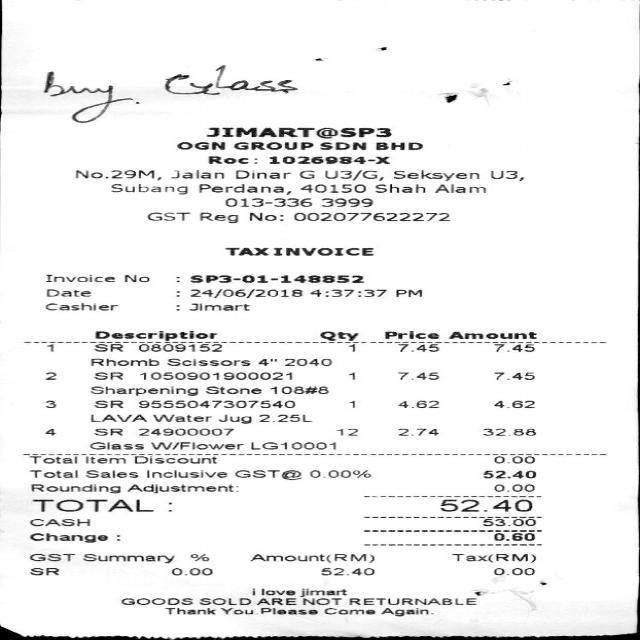text: (206, 126, 391, 138), (31, 499, 152, 511), (293, 212, 449, 220), (138, 371, 292, 379), (250, 553, 373, 563), (190, 275, 363, 282), (95, 330, 216, 340), (438, 499, 530, 511), (137, 399, 293, 406), (88, 386, 195, 396), (188, 288, 300, 297), (126, 483, 238, 492), (199, 183, 290, 194), (74, 169, 160, 180), (81, 553, 173, 563), (28, 532, 118, 542), (348, 597, 475, 604), (392, 170, 477, 180), (267, 156, 388, 163), (452, 552, 534, 562), (30, 483, 119, 492), (108, 183, 185, 193), (150, 441, 243, 449), (138, 427, 230, 435), (272, 247, 372, 254), (223, 198, 310, 206), (248, 441, 333, 449), (132, 455, 217, 463), (233, 469, 300, 479), (167, 358, 249, 366), (45, 302, 116, 311), (234, 141, 312, 149), (447, 331, 535, 338), (323, 170, 383, 180), (137, 344, 220, 351), (146, 470, 226, 477), (90, 358, 158, 366), (309, 289, 385, 296), (298, 184, 364, 192), (43, 274, 112, 281), (379, 607, 432, 616), (235, 170, 290, 178), (308, 470, 369, 477), (482, 427, 535, 435), (90, 441, 143, 449), (83, 469, 136, 477), (188, 303, 248, 310), (120, 598, 190, 604), (171, 170, 223, 178), (29, 518, 88, 525), (433, 184, 484, 192), (152, 414, 210, 421), (373, 184, 423, 192), (321, 198, 371, 206), (26, 455, 76, 463), (207, 155, 256, 163), (89, 414, 145, 421), (480, 518, 536, 525), (319, 330, 358, 340), (205, 386, 260, 393), (176, 141, 224, 149), (384, 331, 438, 338), (257, 414, 310, 421), (482, 470, 535, 477), (319, 567, 372, 574), (200, 212, 237, 222), (319, 141, 365, 149), (375, 142, 421, 150), (283, 358, 329, 366), (299, 588, 345, 596), (489, 170, 522, 181), (258, 608, 316, 614), (492, 532, 535, 540), (270, 386, 327, 392), (216, 414, 250, 424), (146, 212, 188, 220), (492, 371, 534, 379), (44, 289, 91, 296), (28, 470, 75, 477), (397, 343, 438, 351), (397, 371, 438, 379), (397, 400, 438, 408), (397, 427, 438, 435), (493, 455, 534, 463), (493, 343, 533, 351), (493, 400, 533, 408), (84, 456, 124, 464), (324, 608, 375, 614), (198, 598, 248, 604), (165, 607, 215, 613), (224, 247, 266, 254), (492, 567, 534, 574), (170, 567, 212, 574), (493, 484, 533, 491), (29, 554, 74, 560), (249, 212, 282, 220), (256, 598, 294, 604), (302, 598, 339, 604), (28, 567, 58, 574), (122, 274, 148, 282), (94, 371, 120, 379), (94, 427, 120, 435), (260, 588, 294, 594), (220, 608, 252, 614), (395, 289, 421, 296), (94, 344, 120, 351), (94, 399, 120, 406), (335, 427, 356, 435), (256, 358, 276, 366), (299, 170, 313, 178), (190, 554, 206, 560), (45, 371, 56, 379), (43, 427, 54, 435), (347, 343, 356, 351), (347, 400, 356, 408), (46, 343, 54, 351), (347, 371, 354, 379), (44, 399, 52, 406), (249, 587, 254, 595)
